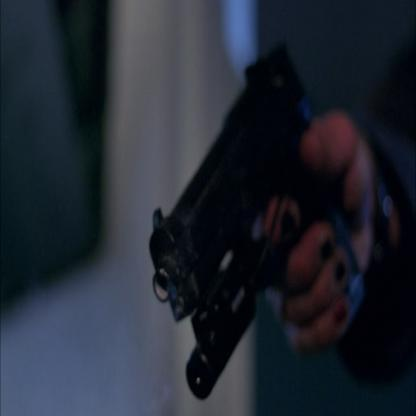gun: (151, 53, 384, 388)
